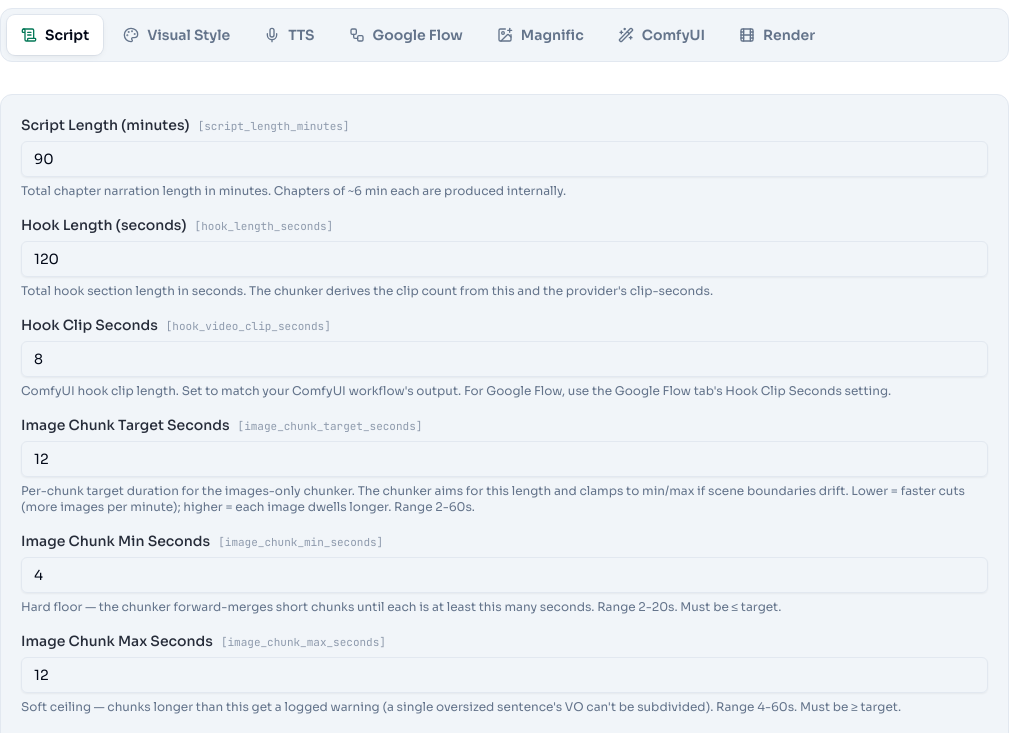
Test: SettingsForm field distribution › hides the four ops-tuning fields under a collapsed Advanced section by default
The width and height of the screenshot is (1024, 733).
Press the mouse on the tab "Google Flow": (406, 35) [334,15,477,55]
(page scrolled)
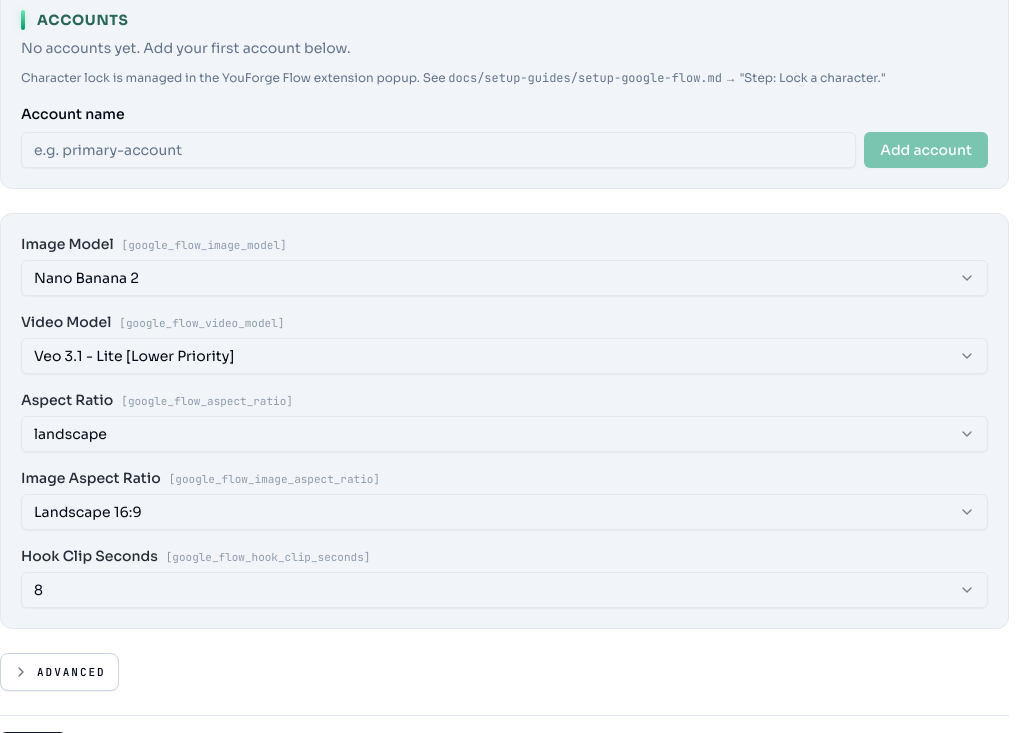
Now the button "Advanced" is shown, box [0,653,119,691]
